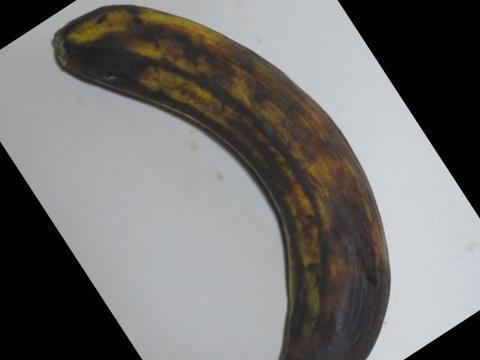overripe: (53, 0, 402, 356)
